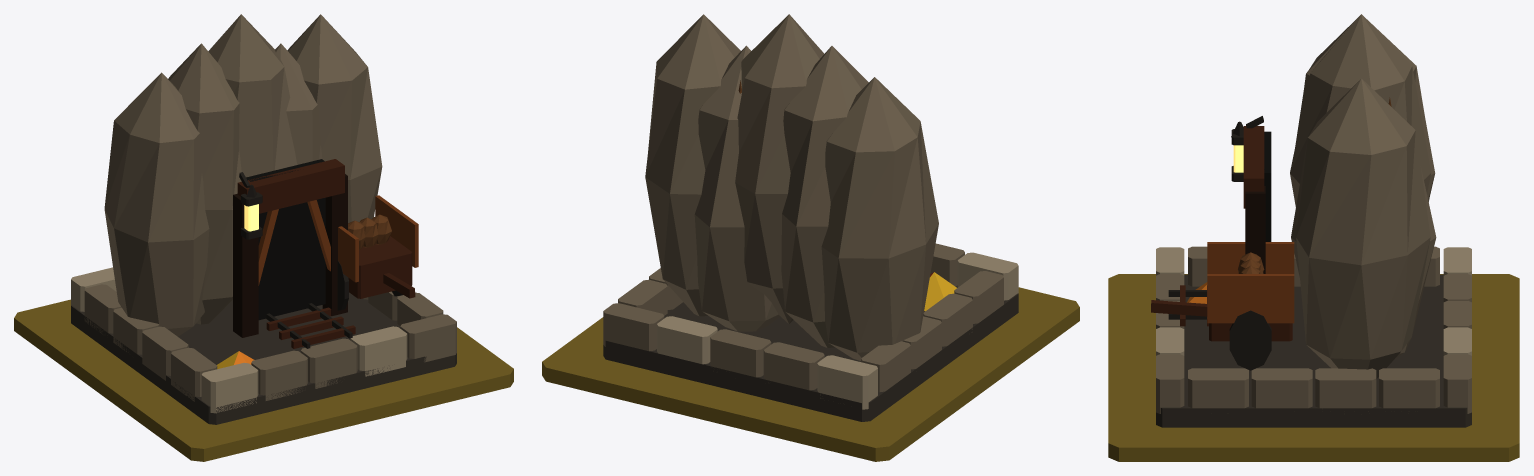
File: mine_t6.glb
3 views of the same model, side by side, from view 1: azimuth 30°, elevation 25°; view 2: azimuth 150°, elevation 25°; view 3: azimuth 270°, elevation 25° (orthographic). The views are drawn at different scales.
Visible parts, largest first — view 1: MMR | mine | T06 Architecture.001, MMR | mine | Tier 06 Ground.001; view 2: MMR | mine | T06 Architecture.001, MMR | mine | Tier 06 Ground.001, MMR | mine | T06 Autumn Dressing.001; view 3: MMR | mine | T06 Architecture.001, MMR | mine | Tier 06 Ground.001.
Boxes of the visible parts, x1=… form: MMR | mine | T06 Architecture.001: x1=71, y1=14, x2=456, y2=424; MMR | mine | Tier 06 Ground.001: x1=14, y1=299, x2=513, y2=461; MMR | mine | T06 Architecture.001: x1=603, y1=14, x2=1018, y2=421; MMR | mine | Tier 06 Ground.001: x1=542, y1=287, x2=1079, y2=461; MMR | mine | T06 Autumn Dressing.001: x1=924, y1=272, x2=956, y2=311; MMR | mine | T06 Architecture.001: x1=1151, y1=14, x2=1471, y2=427; MMR | mine | Tier 06 Ground.001: x1=1108, y1=274, x2=1519, y2=461.
Size of the model in its own units: 1.3 by 1.26 by 1.3.
2 materials, 1 textured.
